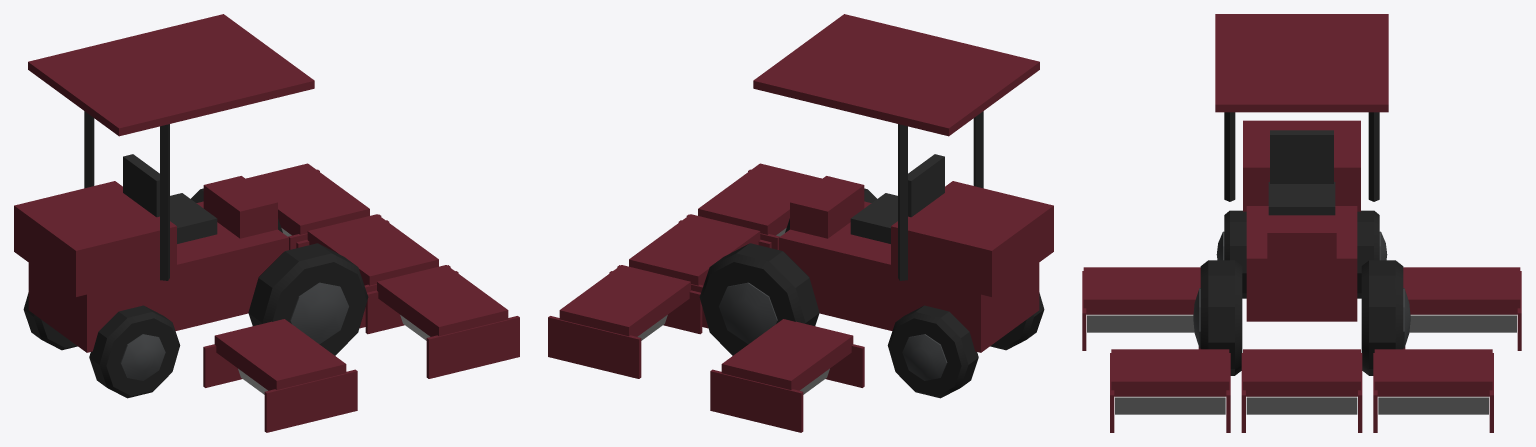
File: SM_Prop_farm_mower_1_LOD1.glb
The picture shows the model from 3 angles, left to right: view 1: azimuth 30°, elevation 25°; view 2: azimuth 150°, elevation 25°; view 3: azimuth 270°, elevation 25°; orthographic projection. The views are drawn at different scales.
Parts seen in each view (by area): view 1: SM_Prop_farm_mower_1_LOD1; view 2: SM_Prop_farm_mower_1_LOD1; view 3: SM_Prop_farm_mower_1_LOD1.
Part boxes in pixels (<box>): SM_Prop_farm_mower_1_LOD1: <box>14,14,519,432</box>; SM_Prop_farm_mower_1_LOD1: <box>548,14,1053,432</box>; SM_Prop_farm_mower_1_LOD1: <box>1082,14,1521,432</box>.
Bounding box in the file's own units: 2.96 × 2.11 × 3.17.
